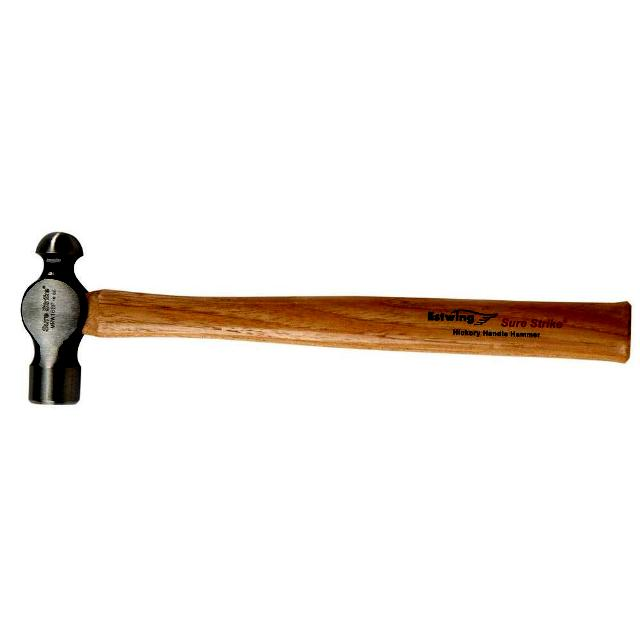hammer: (1, 218, 640, 414)
